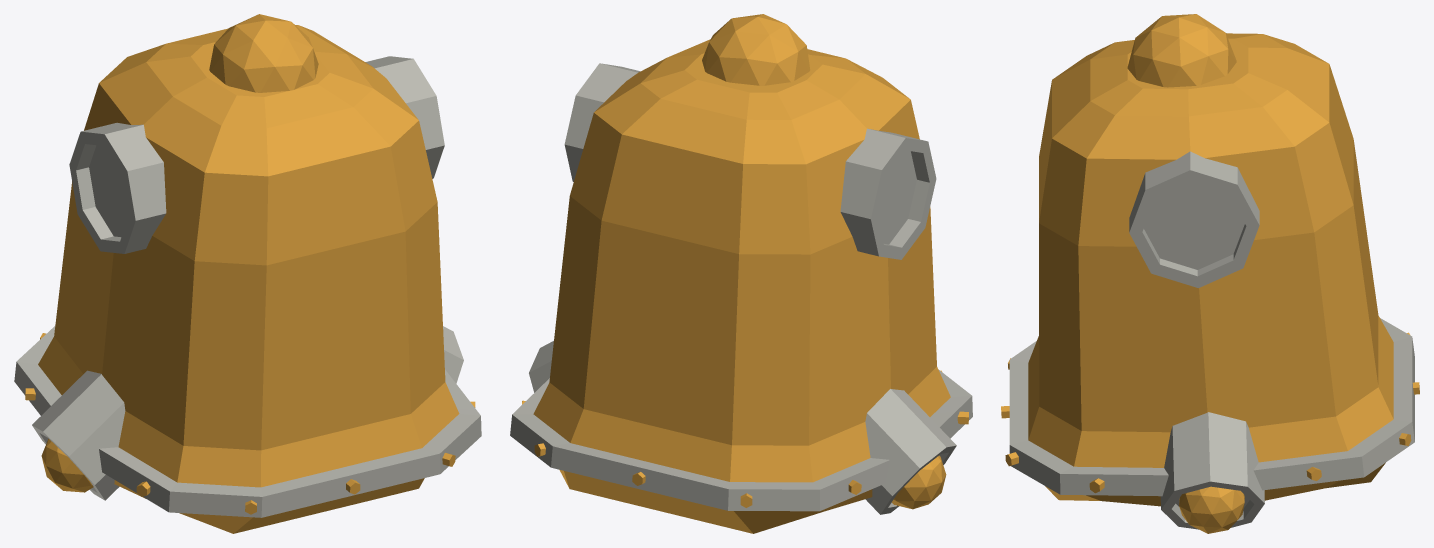
File: Torso.fbx
The picture shows the model from 3 angles, left to right: view 1: azimuth 30°, elevation 25°; view 2: azimuth 150°, elevation 25°; view 3: azimuth 270°, elevation 25°; orthographic projection.
Parts seen in each view (by area): view 1: Torso; view 2: Torso; view 3: Torso.
Boxes of the visible parts, x1,y1,x2,y2 form: Torso: (14,14,481,533); Torso: (510,14,972,533); Torso: (1001,14,1419,533).
Size of the model in its own units: 152 by 159 by 136.
